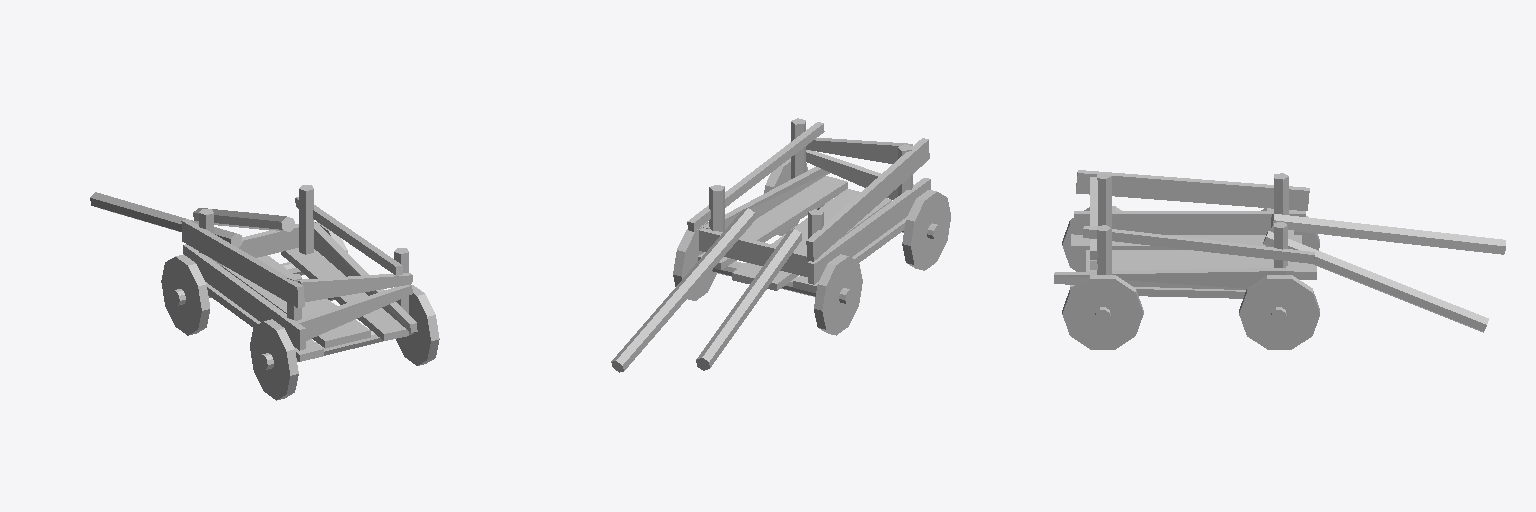
Rendered from Carriage.obj.
3 renders of one model, left to right at view 1: azimuth 30°, elevation 25°; view 2: azimuth 150°, elevation 25°; view 3: azimuth 270°, elevation 25°, orthographic.
Parts seen in each view (by area): view 1: Cube.010; view 2: Cube.010; view 3: Cube.010.
Part boxes in pixels (bbox=[...]): Cube.010: bbox=[90, 185, 439, 400]; Cube.010: bbox=[611, 118, 950, 372]; Cube.010: bbox=[1054, 170, 1505, 349].
Bounding box in the file's own units: 4.58 × 3.09 × 11.12.